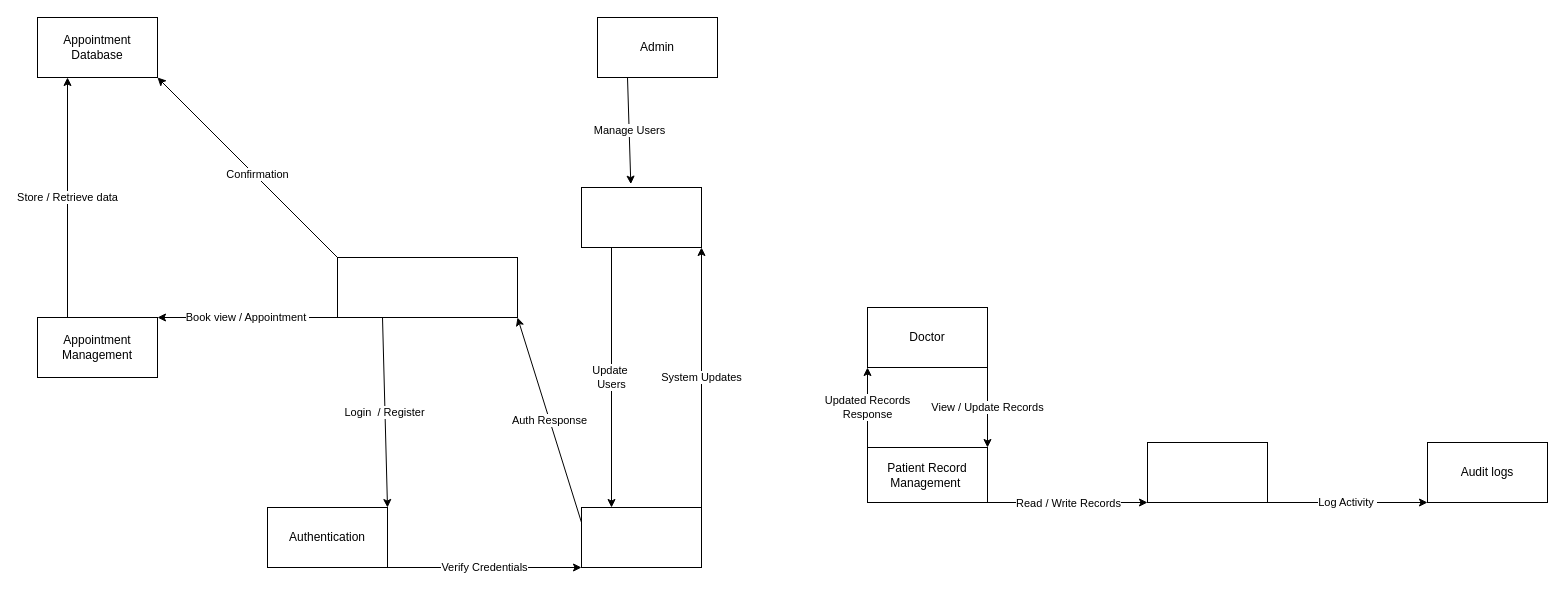
Image size: 1565x593. Some labels were removed from this diagram. The shapes that lost their labels are listed below. From the top down, each one's centre as x and y in pixels, then its label:
At (641,217): "Admn / User management".
At (427,287): "Patient".
At (1207,472): "Patient Records Database".
At (641,537): "User Database".
